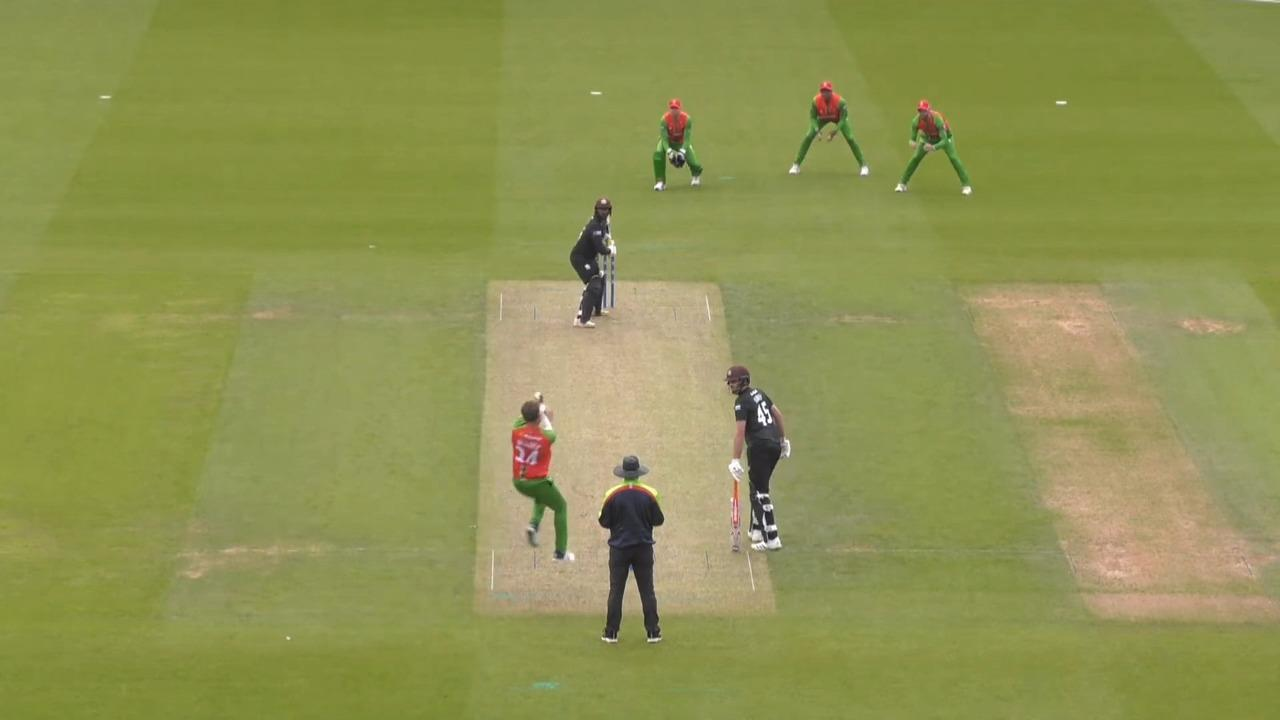sports ball: (534, 392, 541, 399)
